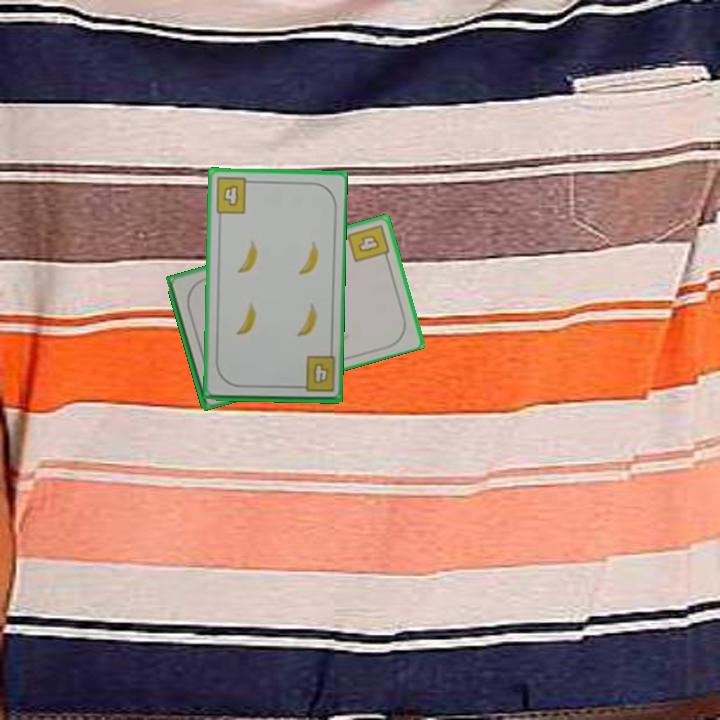4b: (344, 220, 392, 265), (293, 353, 338, 395), (212, 174, 256, 216)
